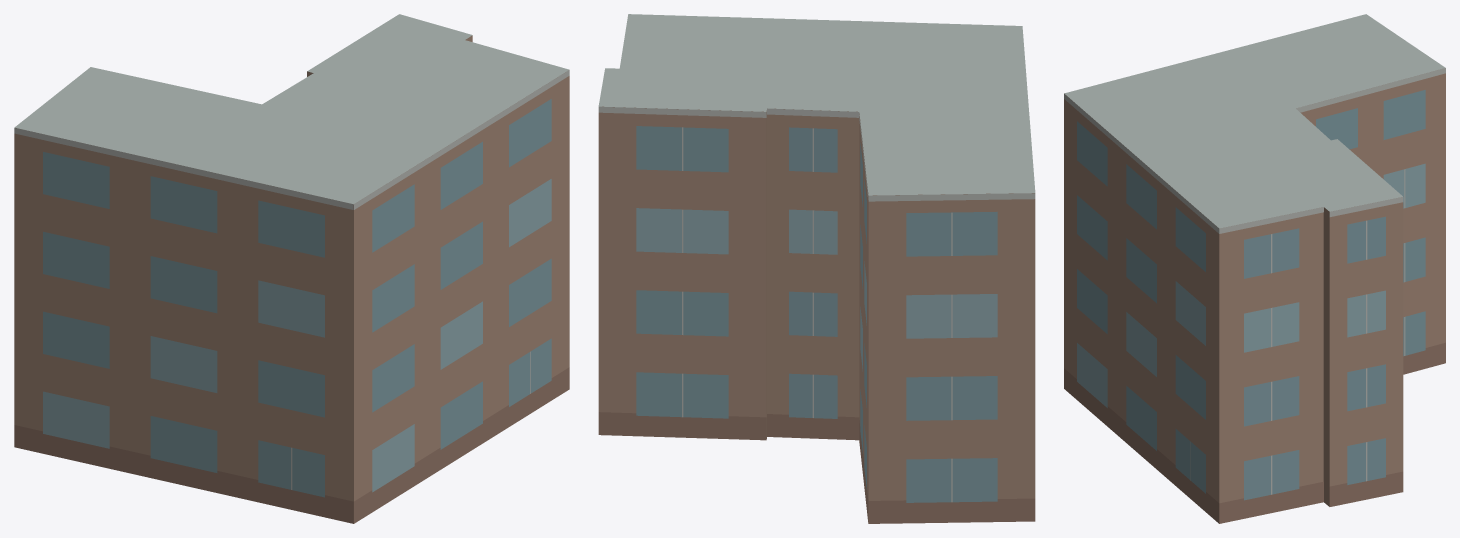
File: survey-upis-32603866.glb
3 renders of one model, left to right at view 1: azimuth 30°, elevation 25°; view 2: azimuth 150°, elevation 25°; view 3: azimuth 270°, elevation 25°, orthographic. The views are drawn at different scales.
Parts seen in each view (by area): view 1: survey-upis-32603866.tmp; view 2: survey-upis-32603866.tmp; view 3: survey-upis-32603866.tmp.
Boxes of the visible parts, x1,y1,x2,y2 form: survey-upis-32603866.tmp: (14,14,569,523); survey-upis-32603866.tmp: (598,14,1035,523); survey-upis-32603866.tmp: (1064,14,1445,523).
Size of the model in its own units: 20.57 by 13.2 by 15.47.
